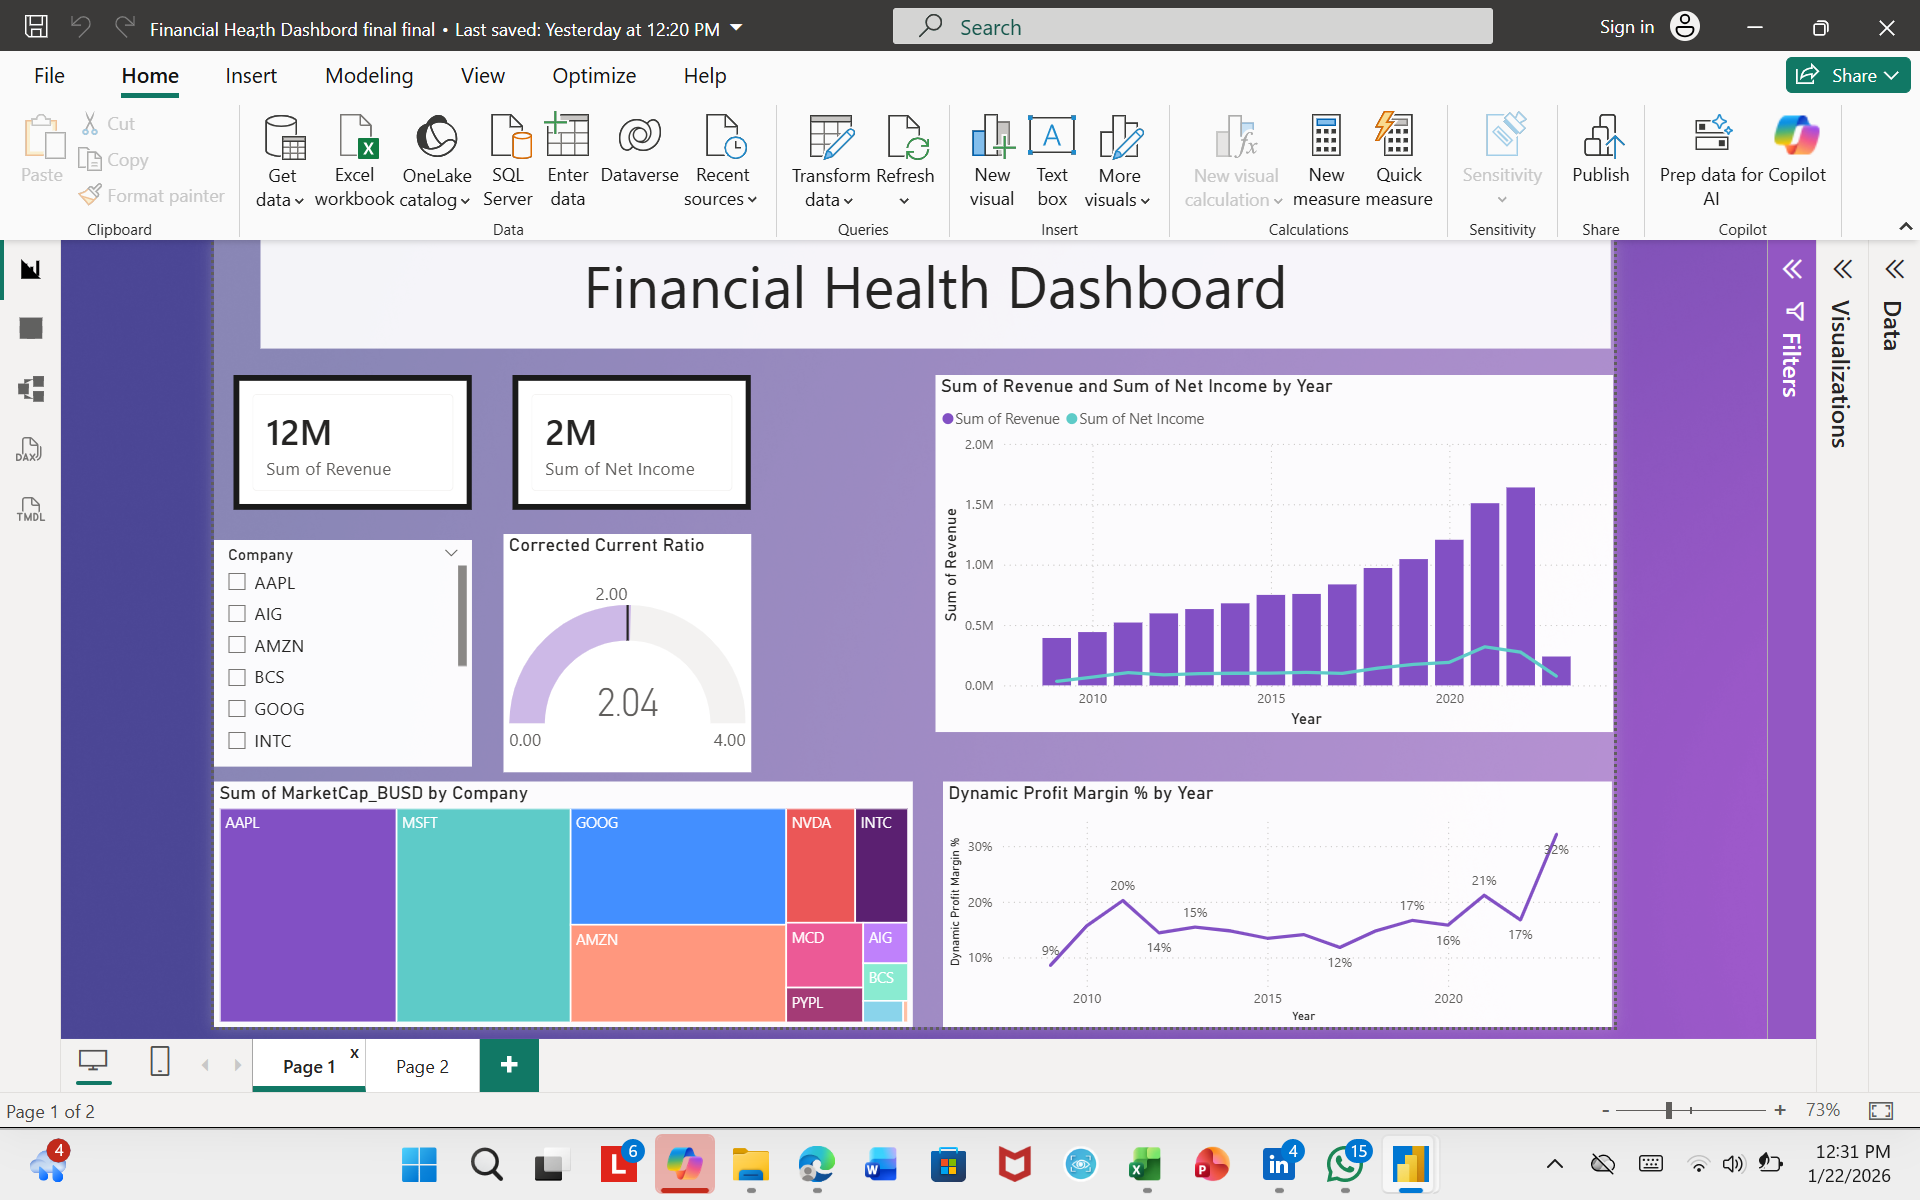

Layout of this report page (visuals, bound fields, positions):
{"tool":"powerbi","page":{"name":"Page 1","canvas":[1280,720],"ordinal":0},"visuals":[{"type":"gauge","fields":{"Y":["Financial StatementsFinancial Statements.Corrected Current Ratio"]},"box":[264.9,269,226.4,218.2],"z":0},{"type":"cardVisual","fields":{"Data":["Sum(Financial Statements.Revenue)"]},"box":[18.3,123.5,218.1,123.5],"z":1000},{"type":"cardVisual","fields":{"Data":["Sum(Financial Statements.Net Income)"]},"box":[273,123.5,218.1,123.5],"z":2000},{"type":"lineChart","fields":{"Category":["Financial StatementsFinancial Statements.Year"],"Y":["Financial StatementsFinancial Statements.Dynamic Profit Margin %"]},"box":[667,495.4,612.1,225.1],"z":3000},{"type":"treemap","fields":{"Group":["Financial Statements.Company"],"Values":["Sum(Financial Statements.MarketCap_BUSD)"]},"box":[0,495.4,639.5,225.1],"z":4000},{"type":"slicer","fields":{"Values":["Financial Statements.Company"]},"box":[0,274.5,236,207.2],"z":5000},{"type":"textbox","box":[42.7,0,1235.3,99.1],"z":6000},{"type":"lineStackedColumnComboChart","fields":{"Category":["Financial StatementsFinancial Statements.Year"],"Y":["Sum(Financial StatementsFinancial Statements.Revenue)"],"Y2":["Sum(Financial StatementsFinancial Statements.Net Income)"]},"box":[660.1,123.5,620.3,326.6],"z":6001}]}

Visuals, with their boxes on the page's 1280x720 design canvas (x1, y1, x2, y2). These are canvas units, not pixel positions in the 1920x1200 screenshot, which may show the page scaled, cropped or inside an application window:
gauge - Financial StatementsFinancial Statements.Corrected Current Ratio: <region>265, 269, 491, 487</region>
cardVisual - Sum(Financial Statements.Revenue): <region>18, 124, 236, 247</region>
cardVisual - Sum(Financial Statements.Net Income): <region>273, 124, 491, 247</region>
lineChart - Financial StatementsFinancial Statements.Year x Financial StatementsFinancial Statements.Dynamic Profit Margin %: <region>667, 495, 1279, 720</region>
treemap - Financial Statements.Company x Sum(Financial Statements.MarketCap_BUSD): <region>0, 495, 640, 720</region>
slicer - Financial Statements.Company: <region>0, 274, 236, 482</region>
textbox: <region>43, 0, 1278, 99</region>
lineStackedColumnComboChart - Financial StatementsFinancial Statements.Year x Sum(Financial StatementsFinancial Statements.Revenue): <region>660, 124, 1280, 450</region>
